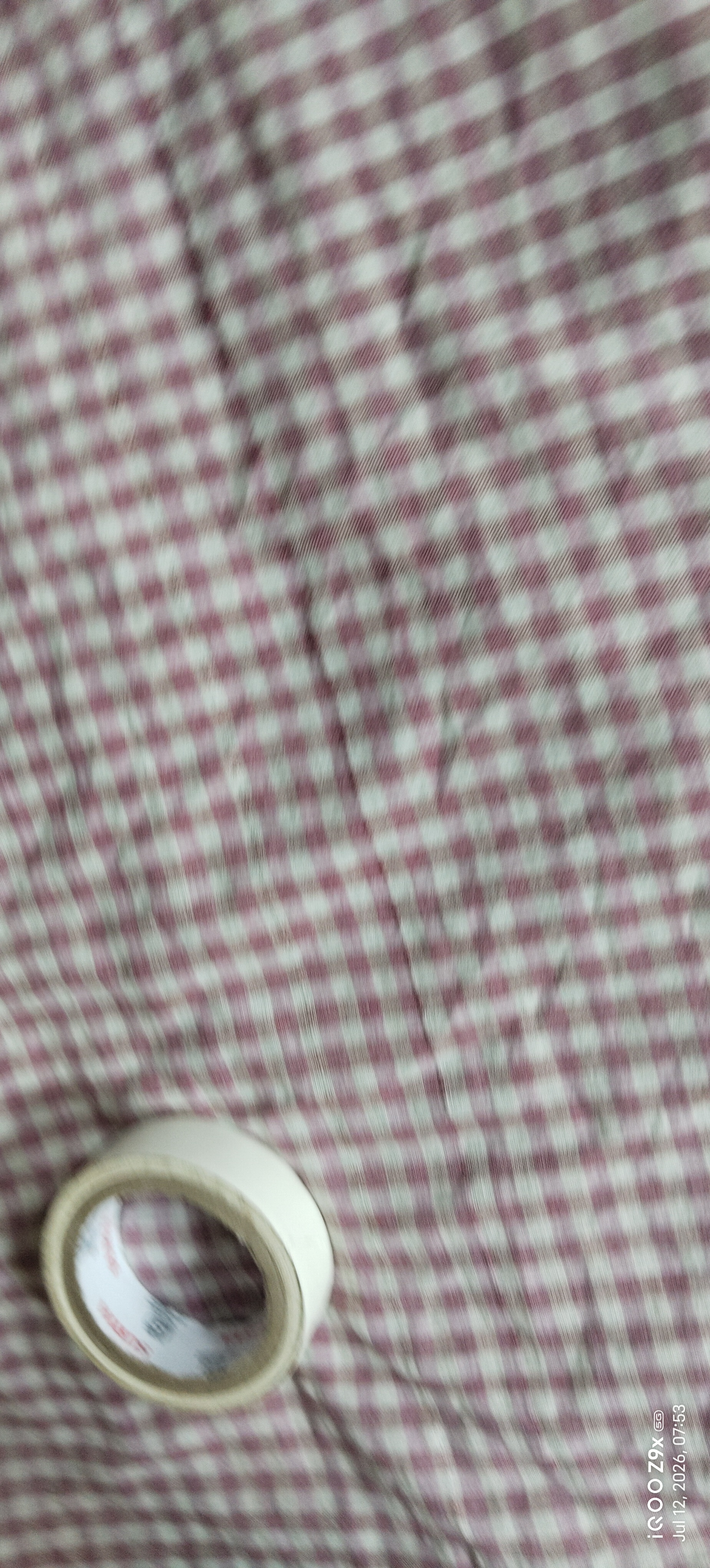tape_roll: (38, 1101, 356, 1438)
